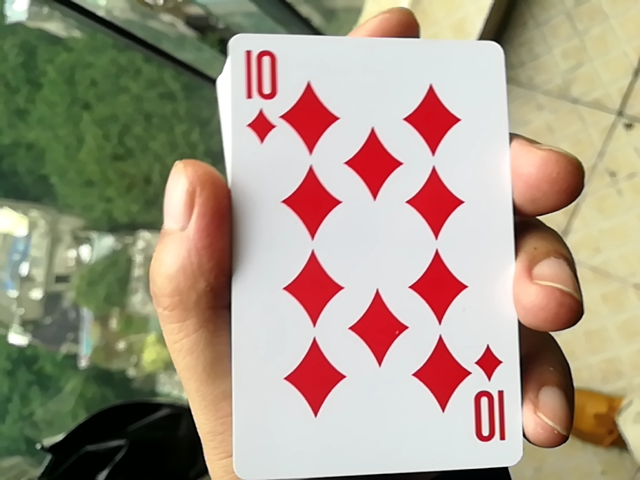fk 10: (211, 16, 522, 475)
